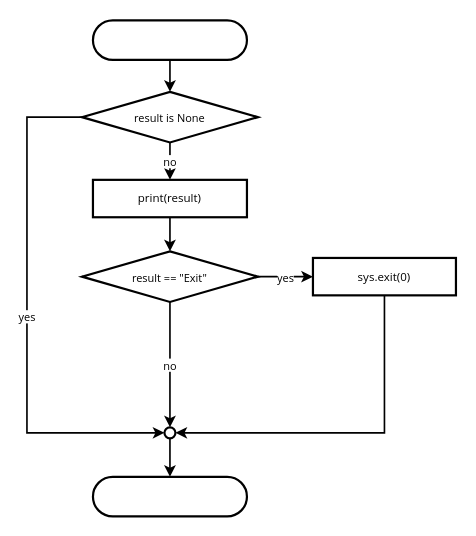
Image size: 476x536. Some labels were removed from this diagram. Each missing label, with the box of its shape:
output(result): (91, 19, 248, 61)
return None: (91, 475, 248, 517)
